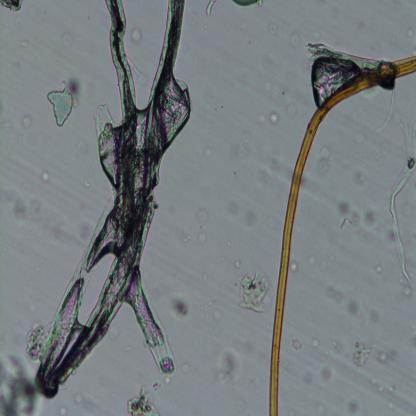Background material: (1, 353, 42, 416), (235, 267, 275, 315), (0, 191, 46, 226), (48, 81, 82, 127), (216, 339, 244, 389), (336, 202, 376, 231), (127, 386, 160, 415), (166, 288, 192, 322), (352, 334, 371, 372), (315, 141, 332, 177), (377, 347, 401, 370), (257, 109, 278, 128), (326, 284, 344, 305), (320, 364, 336, 387), (242, 209, 258, 230), (0, 0, 24, 14), (127, 26, 143, 46), (289, 30, 302, 51), (347, 298, 360, 319), (231, 0, 264, 7), (290, 337, 304, 353), (346, 399, 360, 414), (38, 167, 50, 184), (205, 0, 217, 17)
Cellulose filter fibre: (32, 0, 196, 396), (388, 111, 416, 286)
Microfibre: (267, 54, 416, 415)
